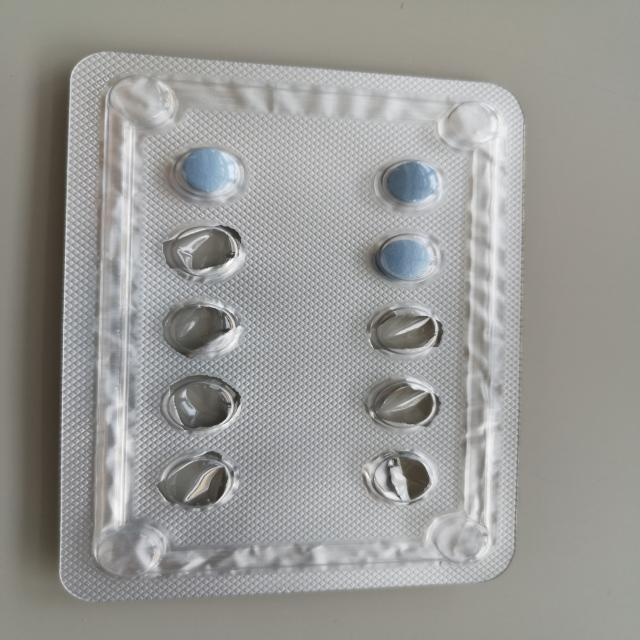Empty: (152, 376, 244, 434), (159, 297, 239, 359), (155, 453, 242, 510), (362, 375, 444, 433), (166, 224, 249, 280), (362, 449, 438, 508), (367, 304, 443, 358)
Pill: (169, 144, 246, 204), (374, 157, 446, 210), (370, 232, 442, 285)
